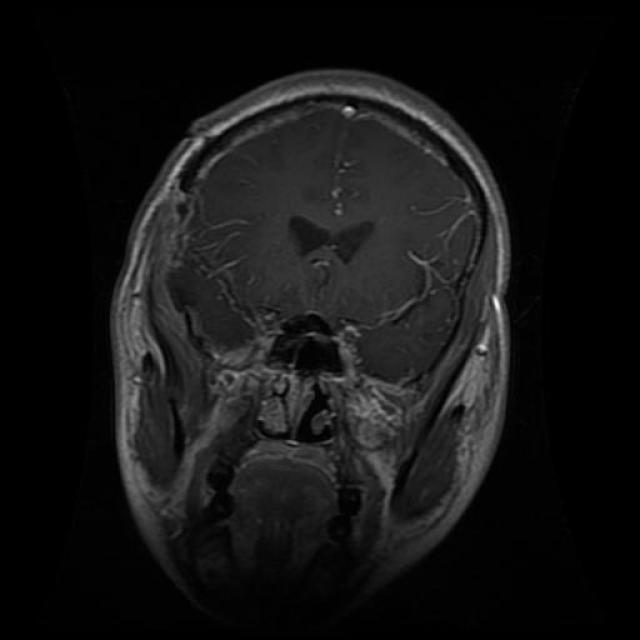glioma: (287, 212, 385, 272)
